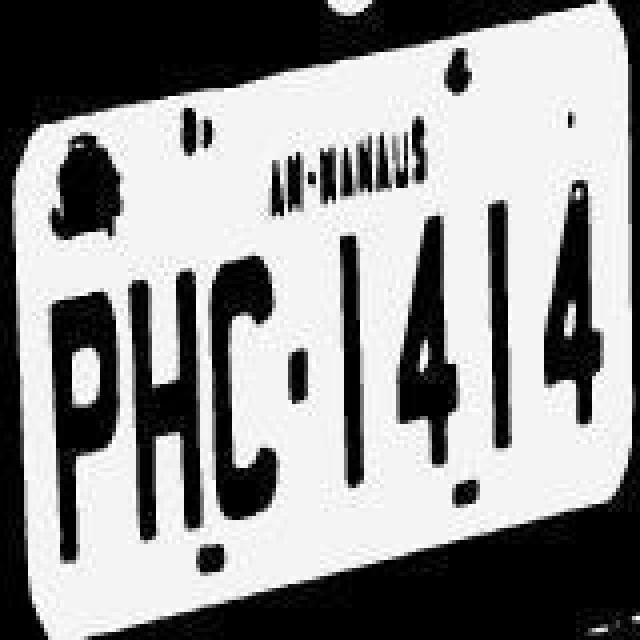1: (472, 166, 520, 458), (322, 222, 366, 498)
4: (530, 162, 614, 462), (388, 212, 460, 476)
C: (202, 234, 278, 518)
H: (120, 254, 200, 546)
P: (44, 286, 124, 562)
